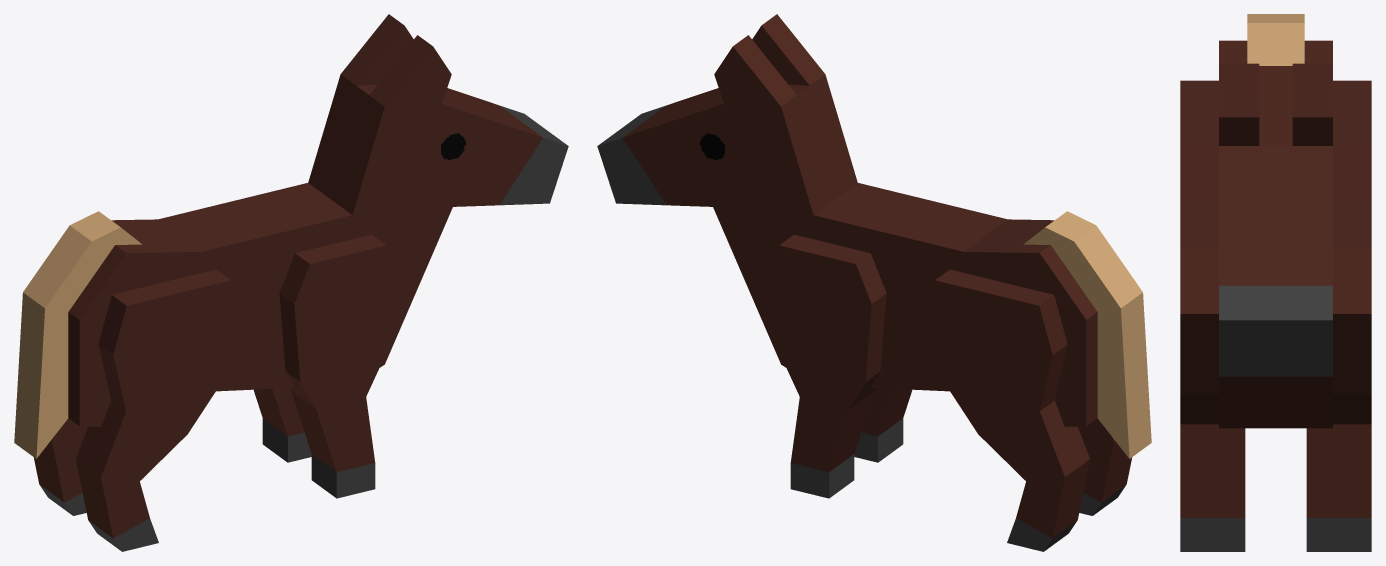
Rendered from Horse (Loose).fbx.
3 renders of one model, left to right at view 1: azimuth 30°, elevation 25°; view 2: azimuth 150°, elevation 25°; view 3: azimuth 270°, elevation 25°, orthographic. The views are drawn at different scales.
Visible parts, largest first — view 1: Cube; view 2: Cube; view 3: Cube.
Boxes of the visible parts, x1,y1,x2,y2 form: Cube: (14,14,568,551); Cube: (597,14,1151,551); Cube: (1180,14,1371,551).
Size of the model in its own units: 423 by 322 by 104.
